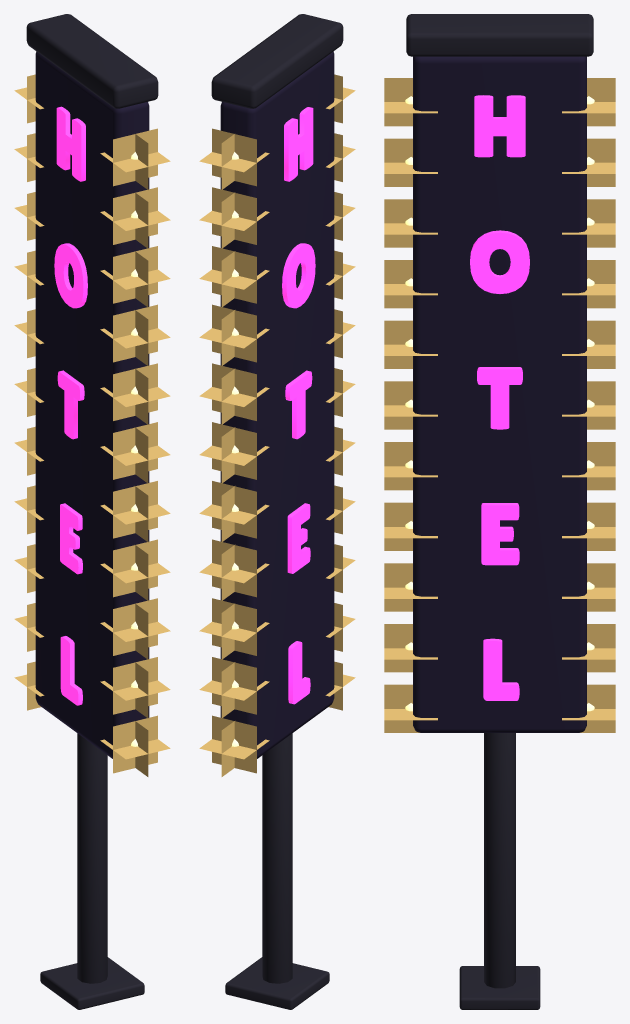
File: neon_blade_sign.glb
3 views of the same model, side by side, from view 1: azimuth 30°, elevation 25°; view 2: azimuth 150°, elevation 25°; view 3: azimuth 270°, elevation 25° (orthographic). The views are drawn at different scales.
Parts seen in each view (by area): view 1: BladeSign; view 2: BladeSign; view 3: BladeSign.
Boxes of the visible parts, x1,y1,x2,y2 form: BladeSign: (14, 14, 170, 1009); BladeSign: (199, 14, 355, 1009); BladeSign: (384, 14, 615, 1009).
Size of the model in its own units: 0.6 by 8 by 1.73.
